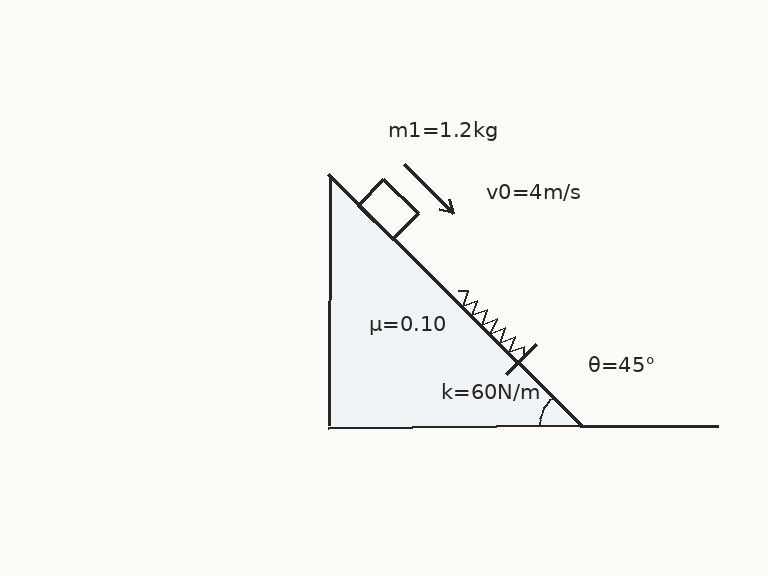block: (356, 177, 420, 241)
ramp: (327, 173, 582, 428)
spring: (456, 289, 526, 359)
